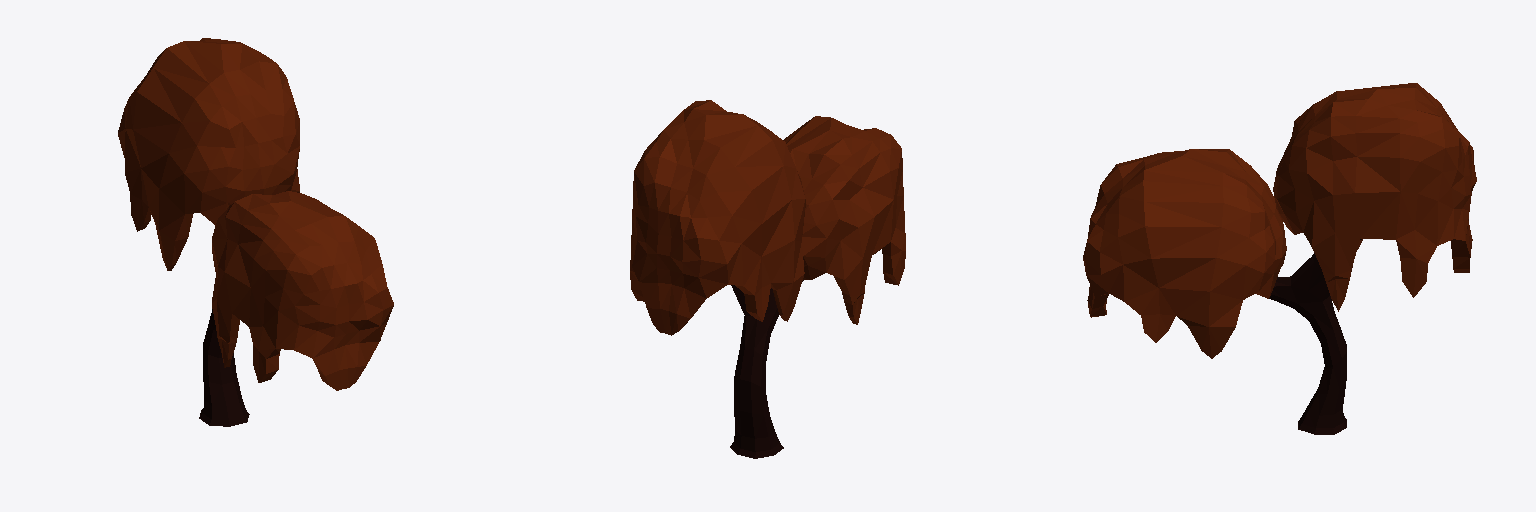
Rendered from Willow_Autumn_5_Cube.obj.
The picture shows the model from 3 angles: view 1: azimuth 30°, elevation 25°; view 2: azimuth 150°, elevation 25°; view 3: azimuth 270°, elevation 25°; orthographic projection.
Parts seen in each view (by area): view 1: Willow_Autumn_5_Cube.084; view 2: Willow_Autumn_5_Cube.084; view 3: Willow_Autumn_5_Cube.084.
Boxes of the visible parts, <box> form: Willow_Autumn_5_Cube.084: <box>118,38,393,426</box>; Willow_Autumn_5_Cube.084: <box>630,100,905,458</box>; Willow_Autumn_5_Cube.084: <box>1083,83,1476,434</box>.
Size of the model in its own units: 1.01 by 2.42 by 2.49.